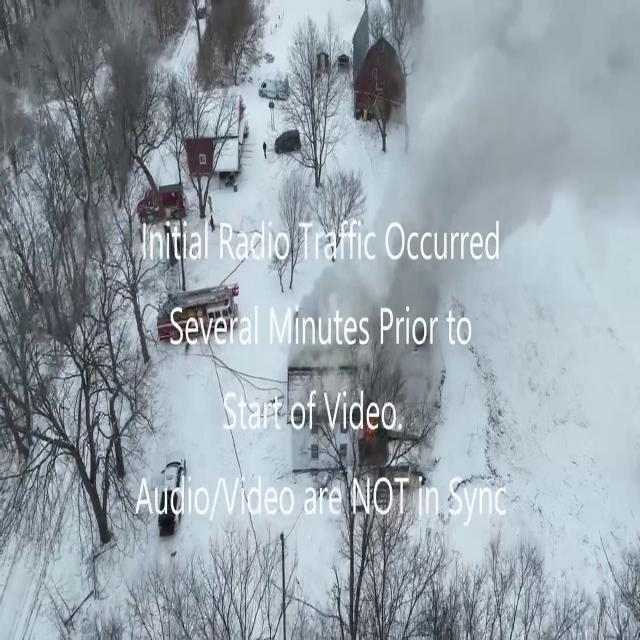Smoke: (308, 0, 639, 451)
